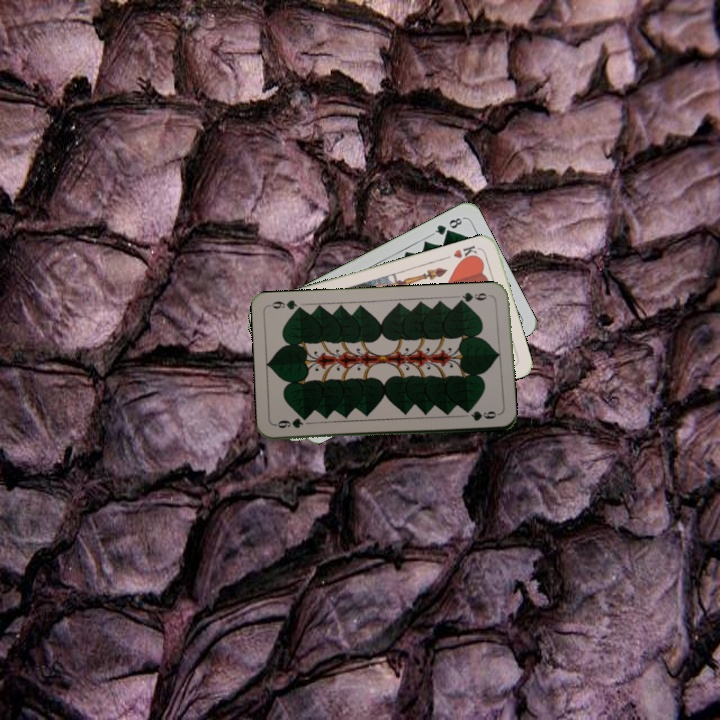G8: (428, 213, 466, 238)
G9: (455, 288, 495, 306), (271, 415, 305, 431)
HK: (449, 241, 483, 265)
